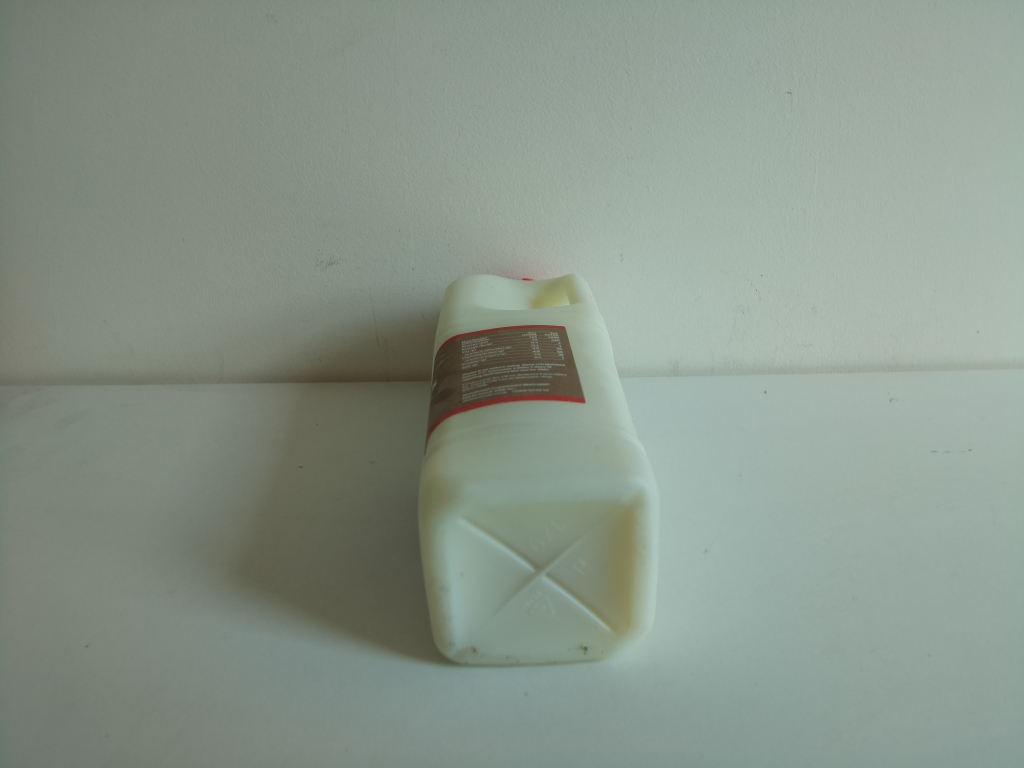milk: (408, 266, 670, 673)
